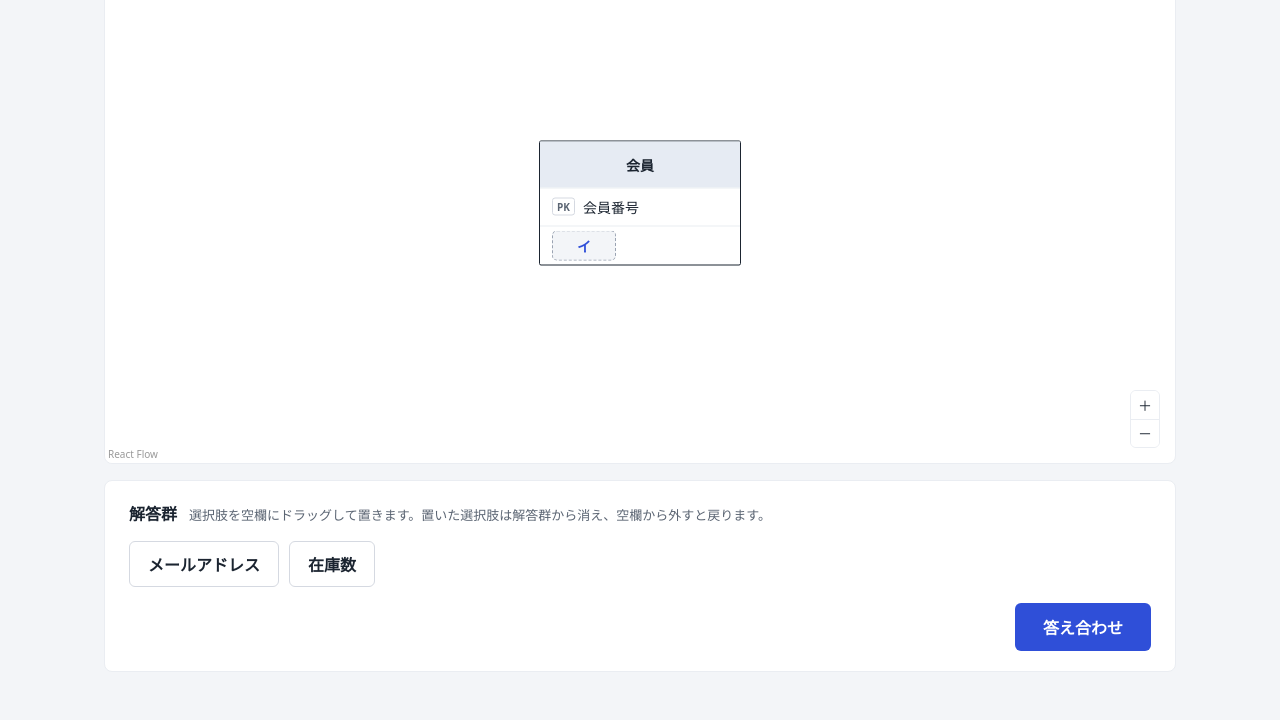
Test: App › 不正解と未回答には ✕ と正解を出し、[もう一度解く] で空欄が空に戻る
(page scrolled)
Check: the button named "空欄 イ" is shown, box [552, 230, 616, 260]
Click the button "答え合わせ" at (1083, 626), box [1015, 602, 1151, 650]
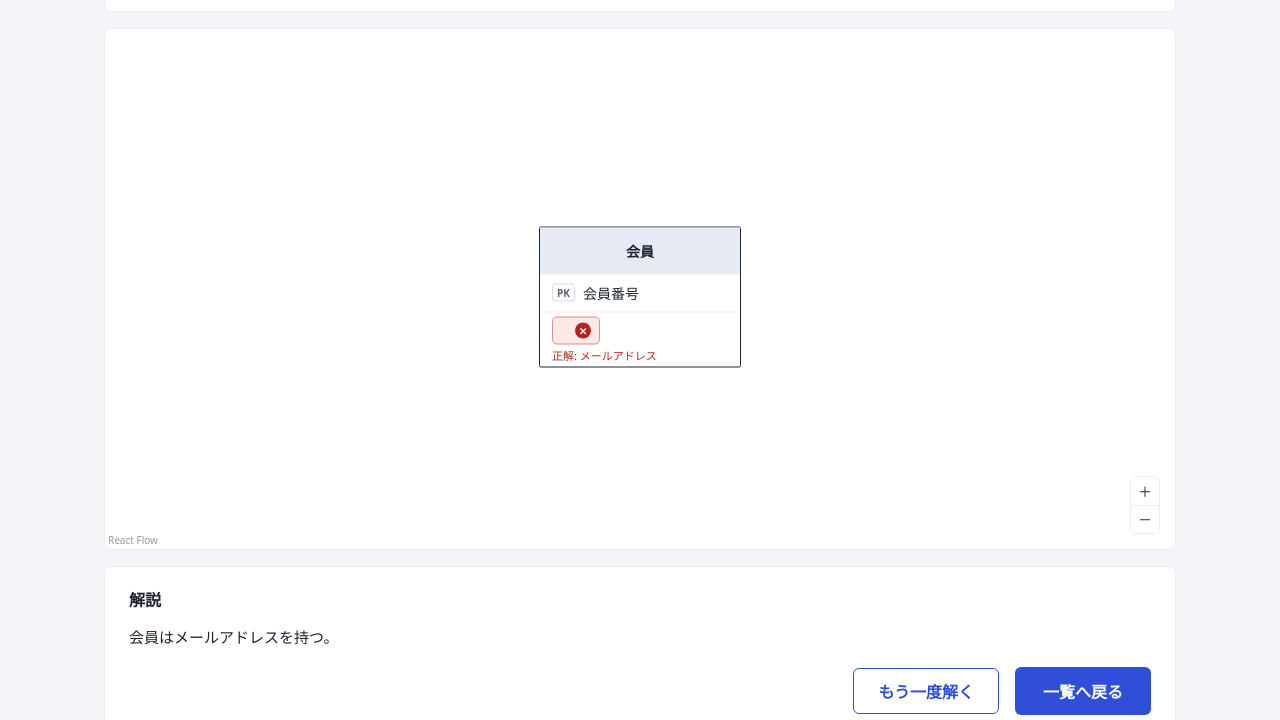
Check: the element named "空欄 イ: 未回答、不正解" is shown, box [552, 316, 600, 344]
Check: the text "正解: メールアドレス" is shown, box [552, 346, 657, 362]
Click the button "もう一度解く" at (926, 691), box [854, 668, 999, 714]
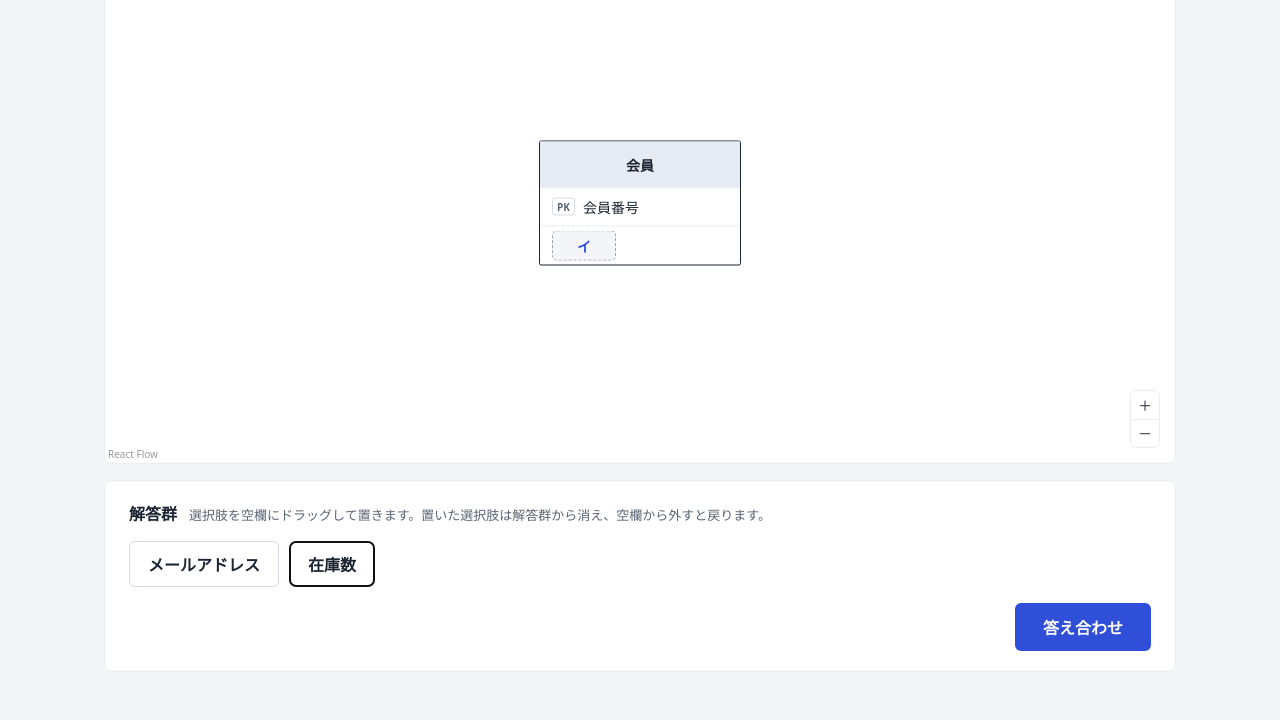
Check: the button named "空欄 イ" reads "イ", box [552, 230, 616, 260]
Check: the element "解答群" is shown, box [104, 480, 1176, 672]
Type keys "[Space]"
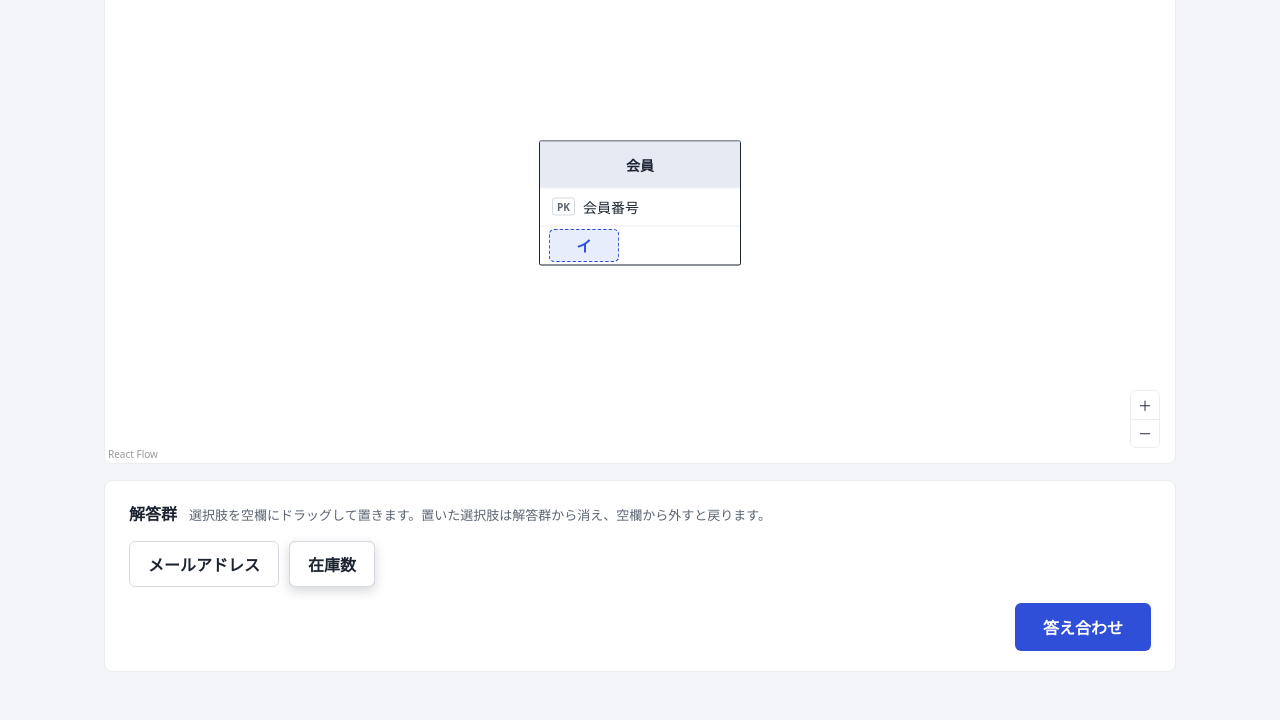
Type keys "[Space]"
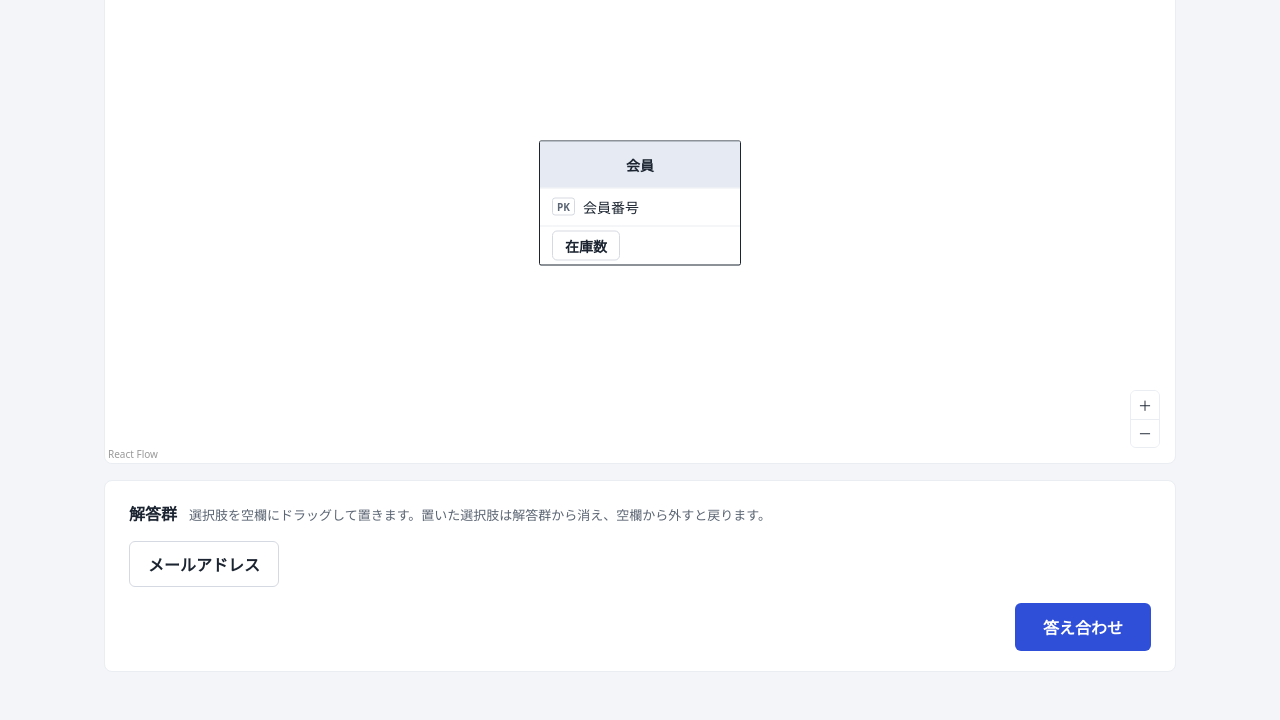
Check: the button with aria-label "空欄 イ" reads "在庫数", box [552, 230, 620, 260]
